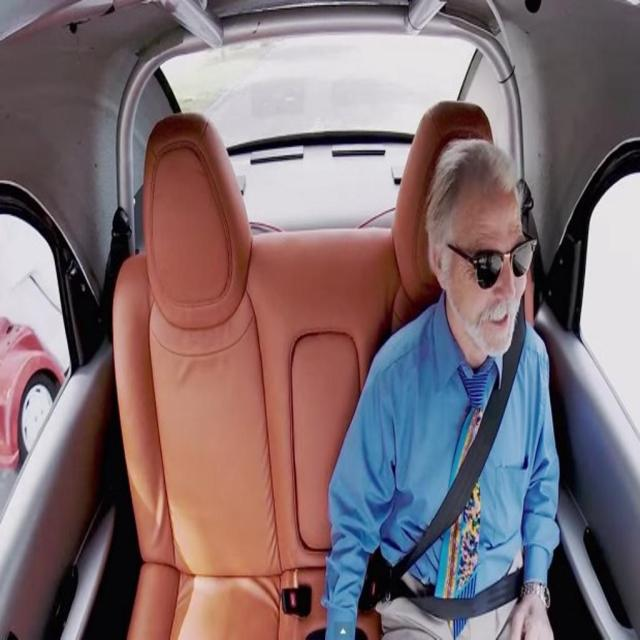Face: (437, 170, 536, 358)
